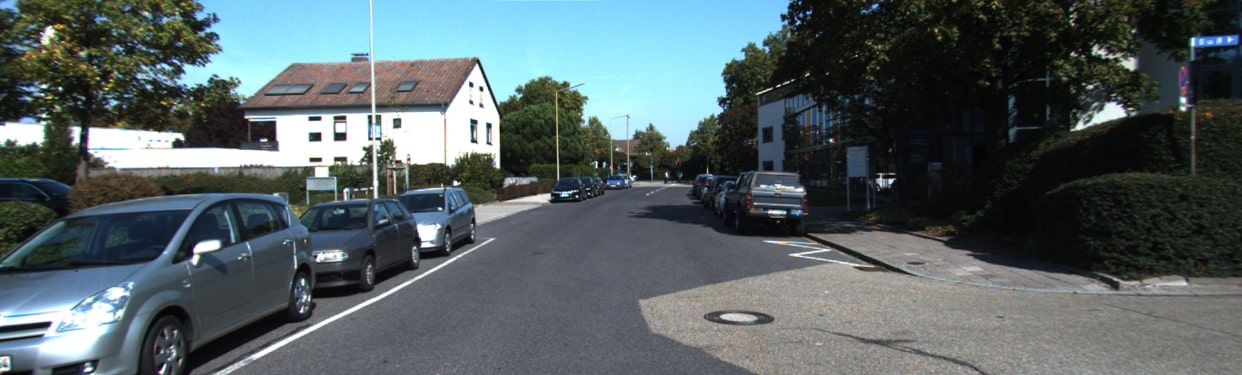car: (1, 192, 299, 366), (318, 194, 410, 303), (730, 163, 818, 231), (426, 185, 484, 262), (545, 176, 590, 204)
